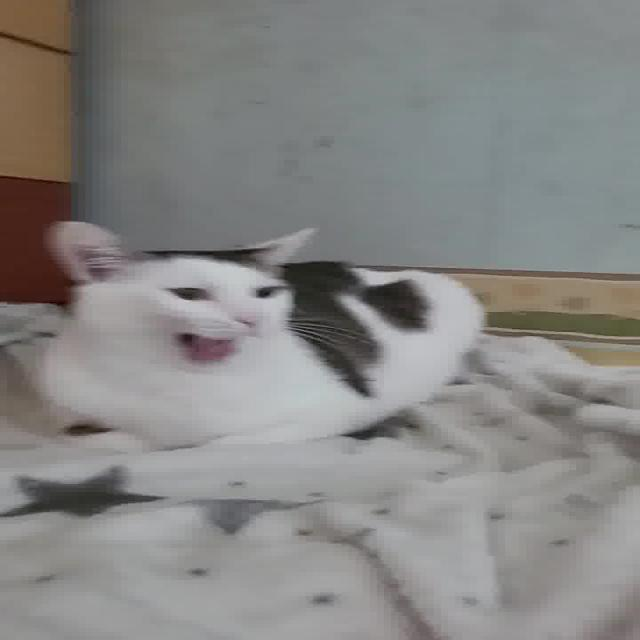cat: (29, 216, 492, 464)
